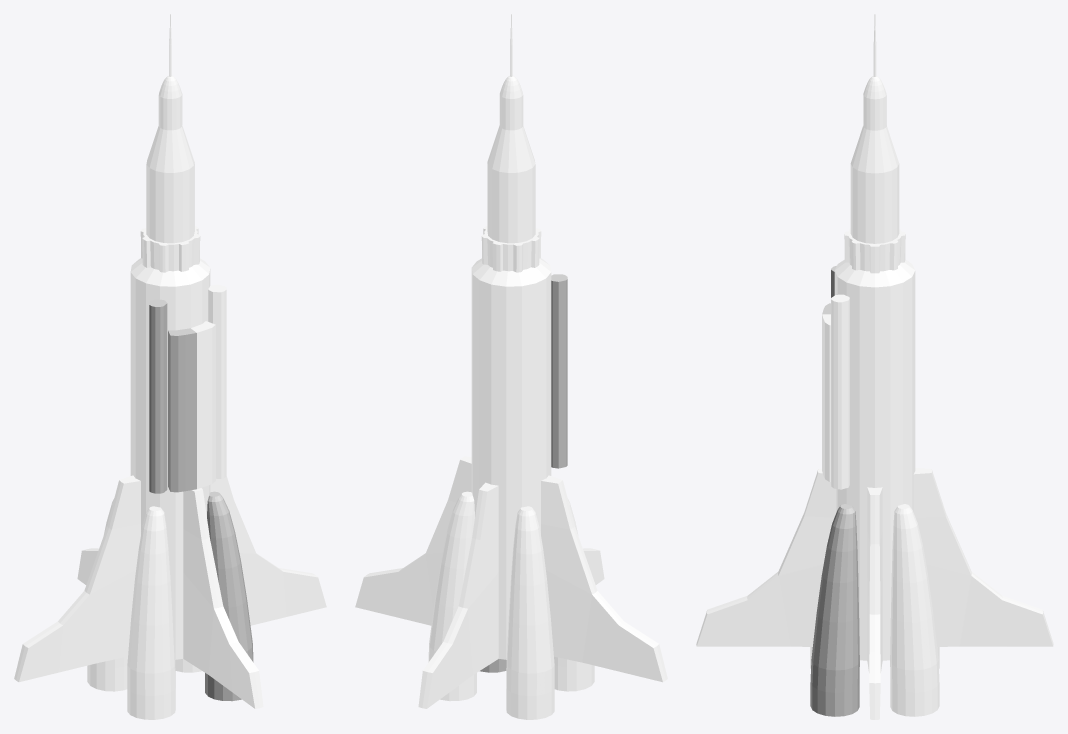
Rendered from Rocket.glb.
3 views of the same model, side by side, from view 1: azimuth 30°, elevation 25°; view 2: azimuth 150°, elevation 25°; view 3: azimuth 270°, elevation 25° (orthographic).
Visible parts, largest first — view 1: Cylinder, Cylinder.004, Cylinder.005, Cylinder.003, Cylinder.001, Cylinder.002, Cylinder.007, Cylinder.006; view 2: Cylinder.004, Cylinder.005, Cylinder, Cylinder.002; view 3: Cylinder.004, Cylinder.005, Cylinder.001, Cylinder.006, Cylinder.007.
Boxes of the visible parts, x1,y1,x2,y2 form: Cylinder: [16, 14, 258, 708]; Cylinder.004: [14, 14, 326, 708]; Cylinder.005: [87, 498, 201, 719]; Cylinder.003: [168, 328, 196, 492]; Cylinder.001: [205, 491, 253, 701]; Cylinder.002: [149, 299, 167, 493]; Cylinder.007: [191, 321, 215, 488]; Cylinder.006: [208, 284, 226, 478]; Cylinder.004: [355, 14, 665, 708]; Cylinder.005: [428, 491, 594, 719]; Cylinder: [512, 28, 667, 679]; Cylinder.002: [551, 274, 567, 468]; Cylinder.004: [696, 14, 1053, 719]; Cylinder.005: [810, 504, 939, 716]; Cylinder.001: [810, 504, 859, 716]; Cylinder.006: [831, 294, 849, 489]; Cylinder.007: [822, 314, 830, 481].
Size of the model in its own units: 14.72 by 30.62 by 14.72.
1 material, 1 textured.
